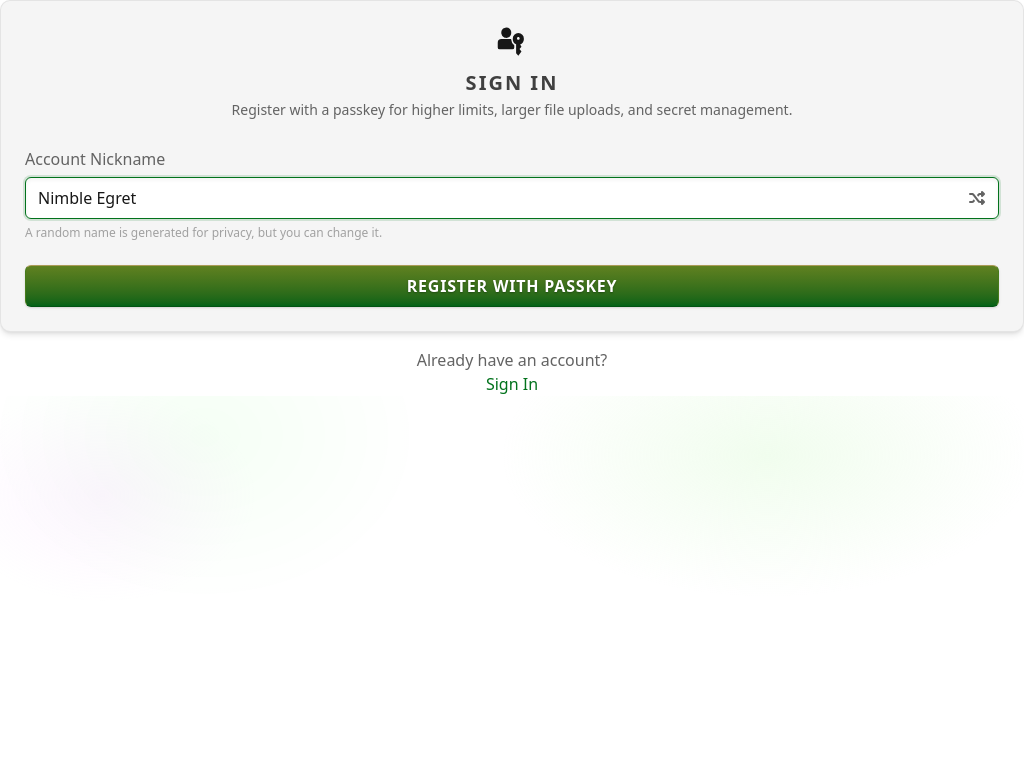
RegisterPage › shows error when display name is empty on submit
Clear the pre-filled random name
Clear the field labelled "Account Nickname" at (512, 198), box [25, 176, 999, 218]
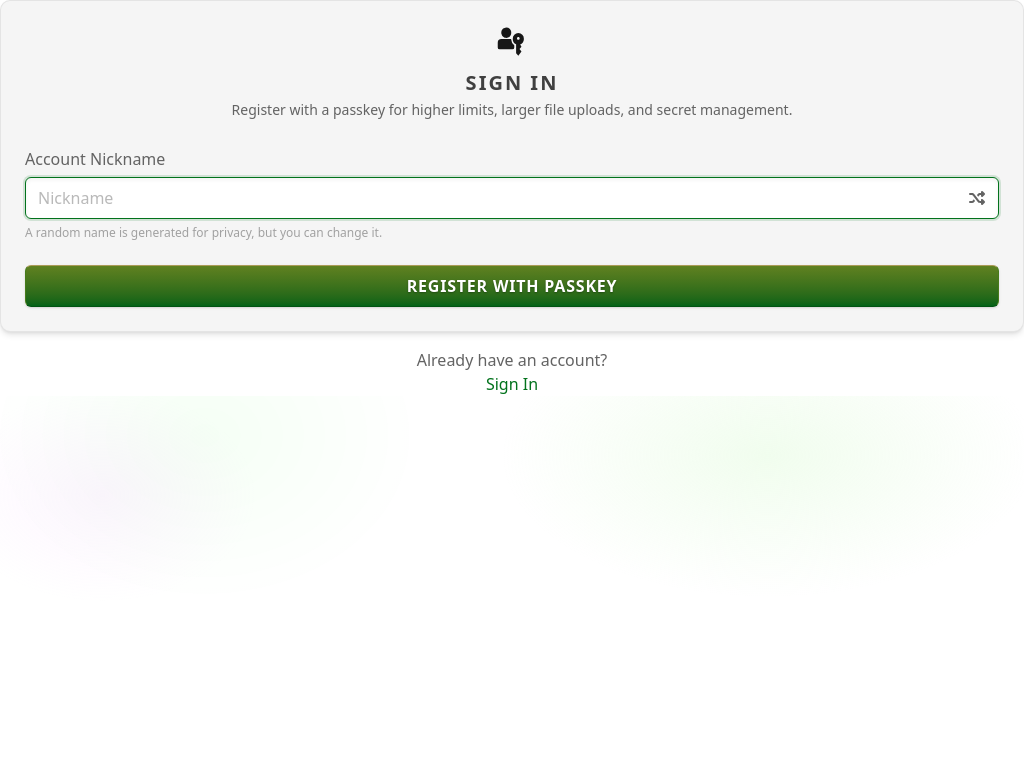
Click the button "Register with Passkey".
click(512, 286)  # box [25, 264, 999, 306]
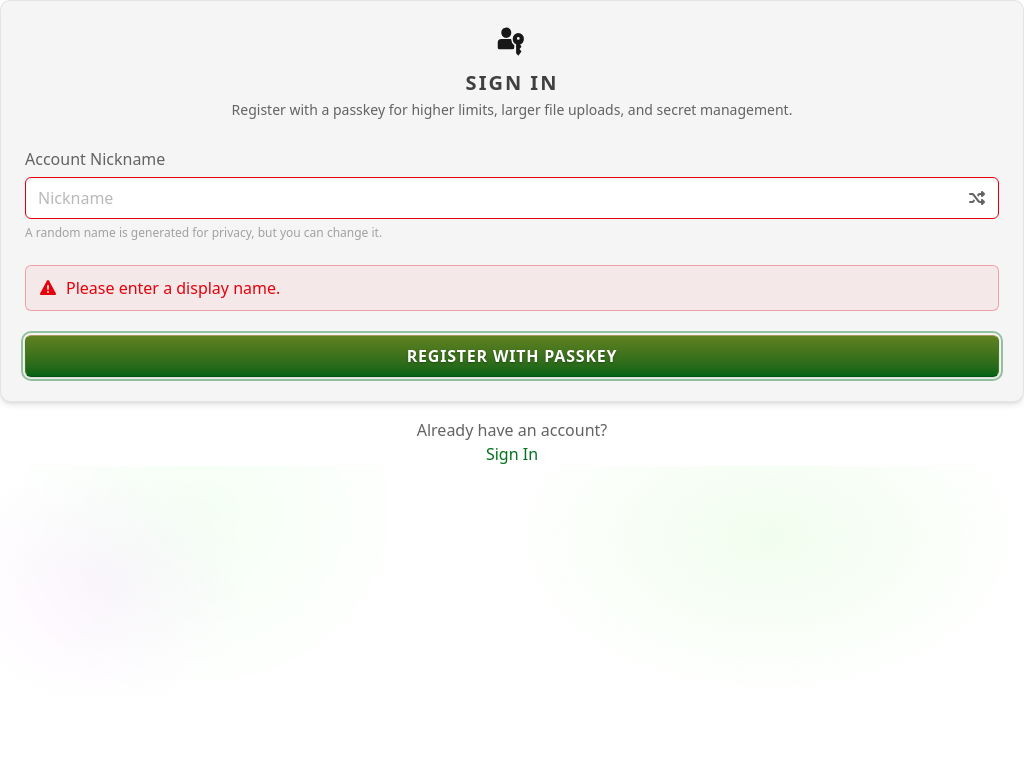
Now the message shows "Please enter a display name", box [66, 276, 280, 298]
